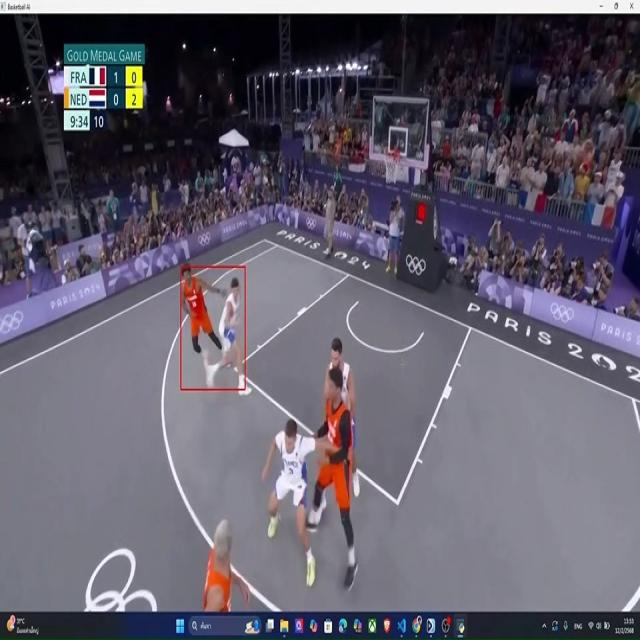hoop: (378, 145, 403, 188)
